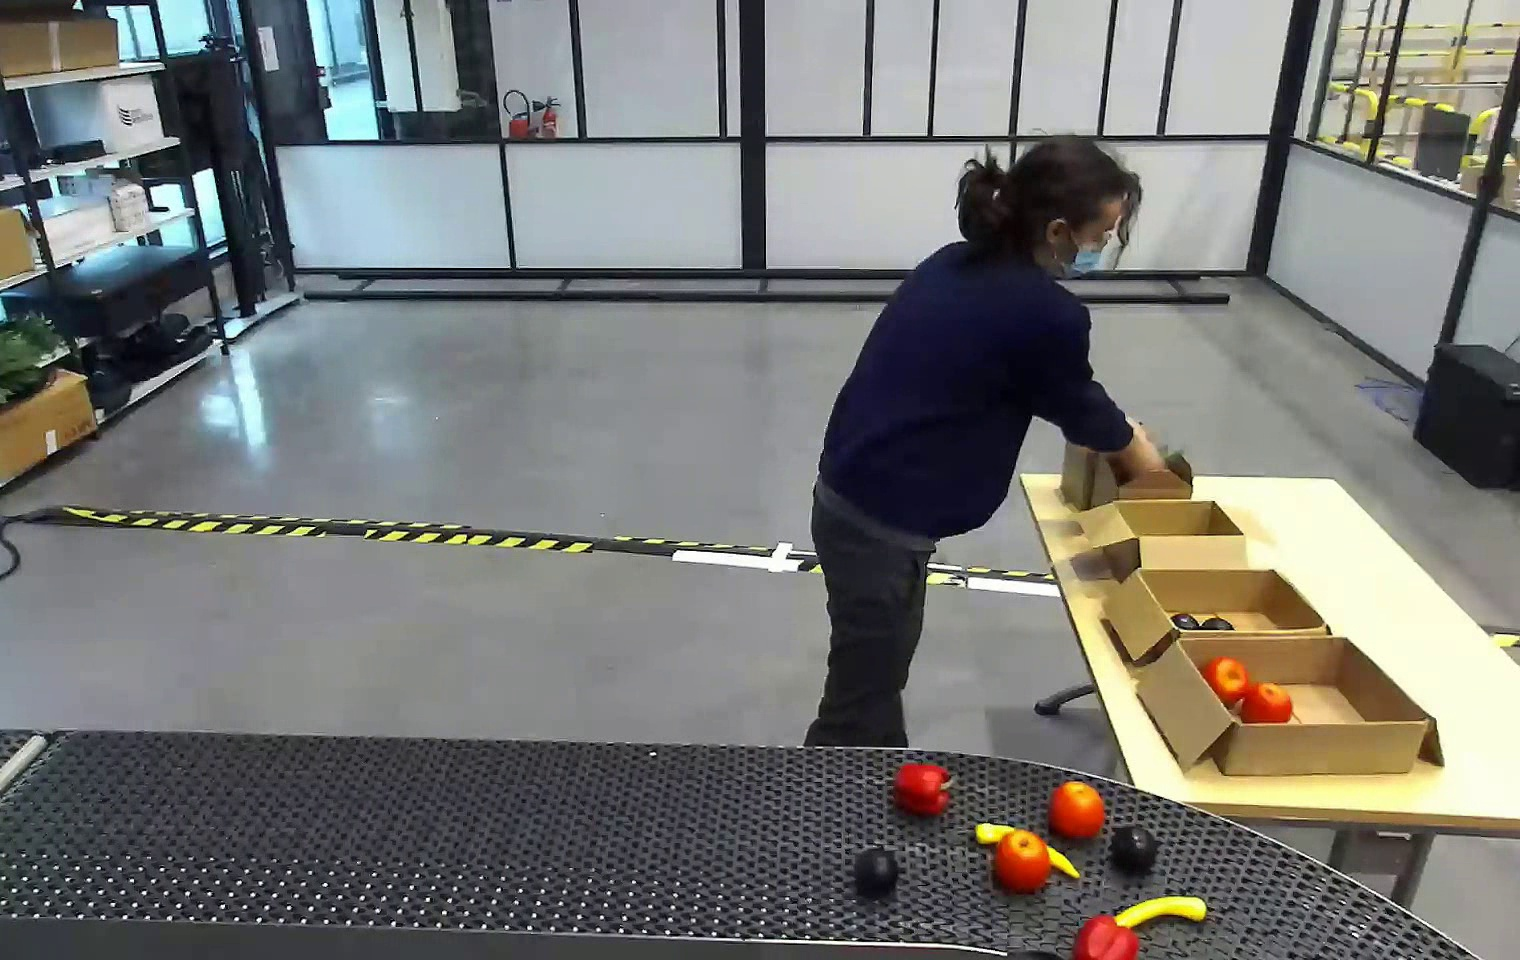Main droite: (1026, 639, 1114, 732)
